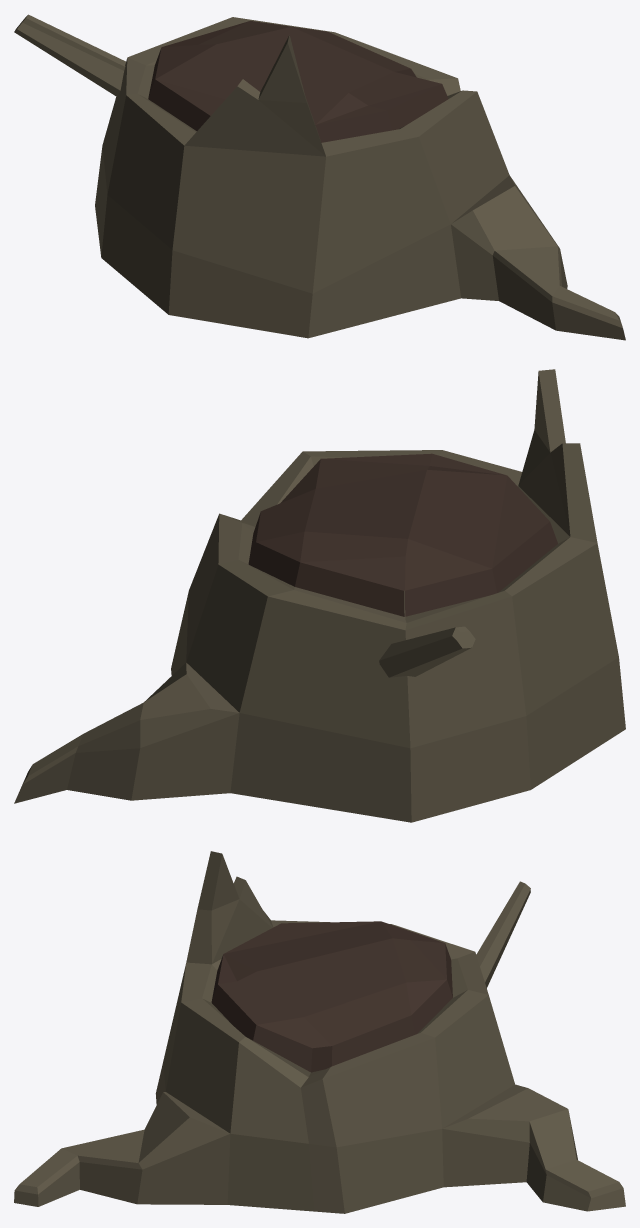
File: TreeStump_1.fbx
3 renders of one model, top to bottom at view 1: azimuth 30°, elevation 25°; view 2: azimuth 150°, elevation 25°; view 3: azimuth 270°, elevation 25°, orthographic. The views are drawn at different scales.
Visible parts, largest first — view 1: TreeStump_1; view 2: TreeStump_1; view 3: TreeStump_1.
Part boxes in pixels (box(x1,y1,x2,y2)): TreeStump_1: box(14, 14, 625, 340); TreeStump_1: box(14, 369, 625, 822); TreeStump_1: box(14, 851, 625, 1213).
Size of the model in its own units: 2.56 by 1.86 by 4.12.
